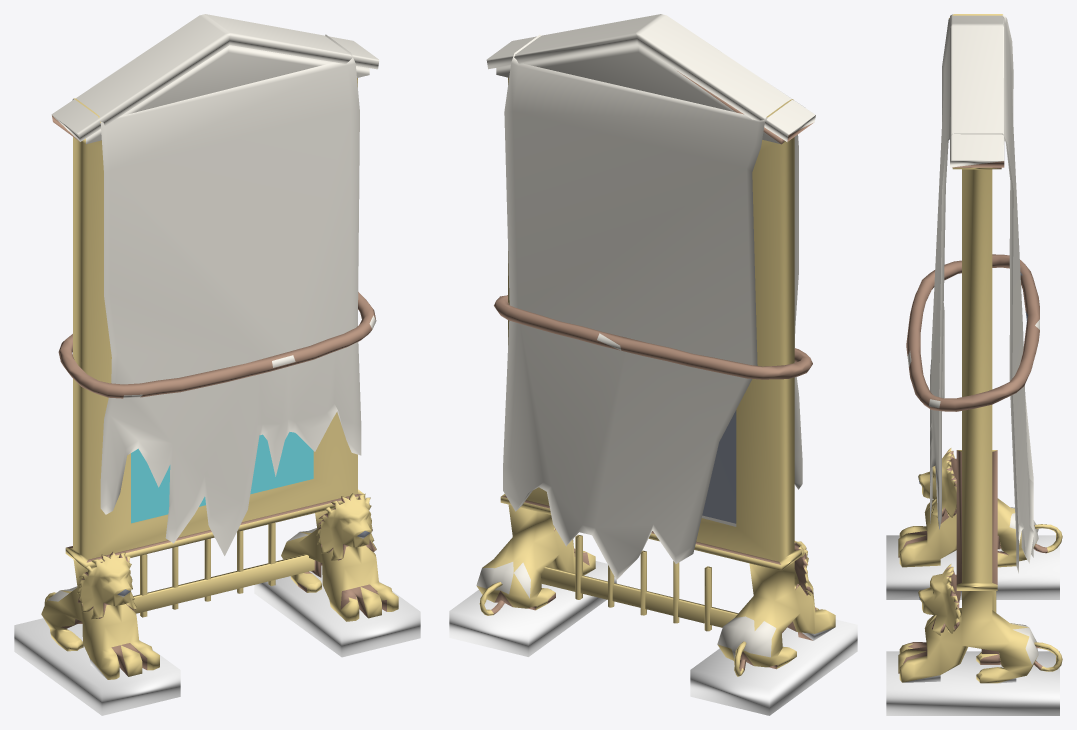
The model's file is mirror_hem.glb.
The picture shows the model from 3 angles, left to right: view 1: azimuth 30°, elevation 25°; view 2: azimuth 150°, elevation 25°; view 3: azimuth 270°, elevation 25°; orthographic projection.
Parts seen in each view (by area): view 1: tripo_node_04097768-0fae-4794-9fcf-3a79411d3bee, glass_f; view 2: tripo_node_04097768-0fae-4794-9fcf-3a79411d3bee; view 3: tripo_node_04097768-0fae-4794-9fcf-3a79411d3bee.
Part boxes in pixels (x1,y1,x2,y2): tripo_node_04097768-0fae-4794-9fcf-3a79411d3bee: [14, 14, 420, 715]; glass_f: [131, 432, 313, 523]; tripo_node_04097768-0fae-4794-9fcf-3a79411d3bee: [449, 14, 857, 715]; tripo_node_04097768-0fae-4794-9fcf-3a79411d3bee: [886, 14, 1062, 715].
Size of the model in its own units: 0.5371 by 0.998 by 0.2598.
